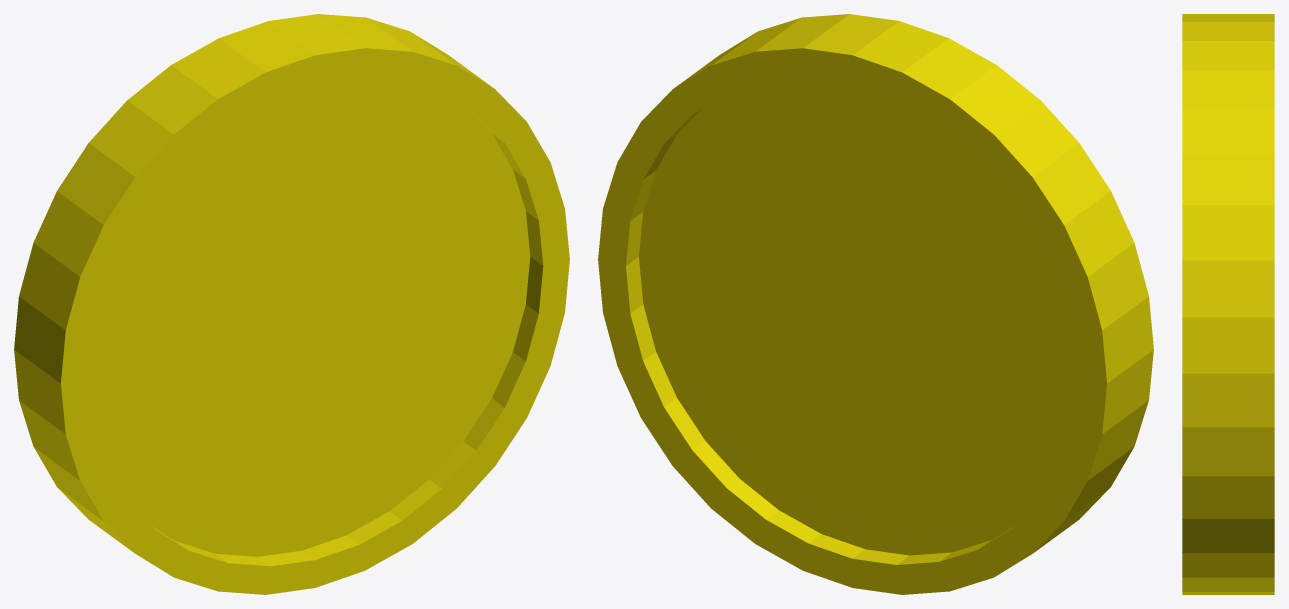
Rendered from Coin.fbx.
3 renders of one model, left to right at view 1: azimuth 30°, elevation 25°; view 2: azimuth 150°, elevation 25°; view 3: azimuth 270°, elevation 25°, orthographic.
Parts seen in each view (by area): view 1: Cylinder; view 2: Cylinder; view 3: Cylinder.
Boxes of the visible parts, bbox=[...] form: Cylinder: bbox=[14, 14, 569, 594]; Cylinder: bbox=[598, 14, 1153, 594]; Cylinder: bbox=[1182, 14, 1274, 594].
Bounding box in the file's own units: 200 × 200 × 31.86.
